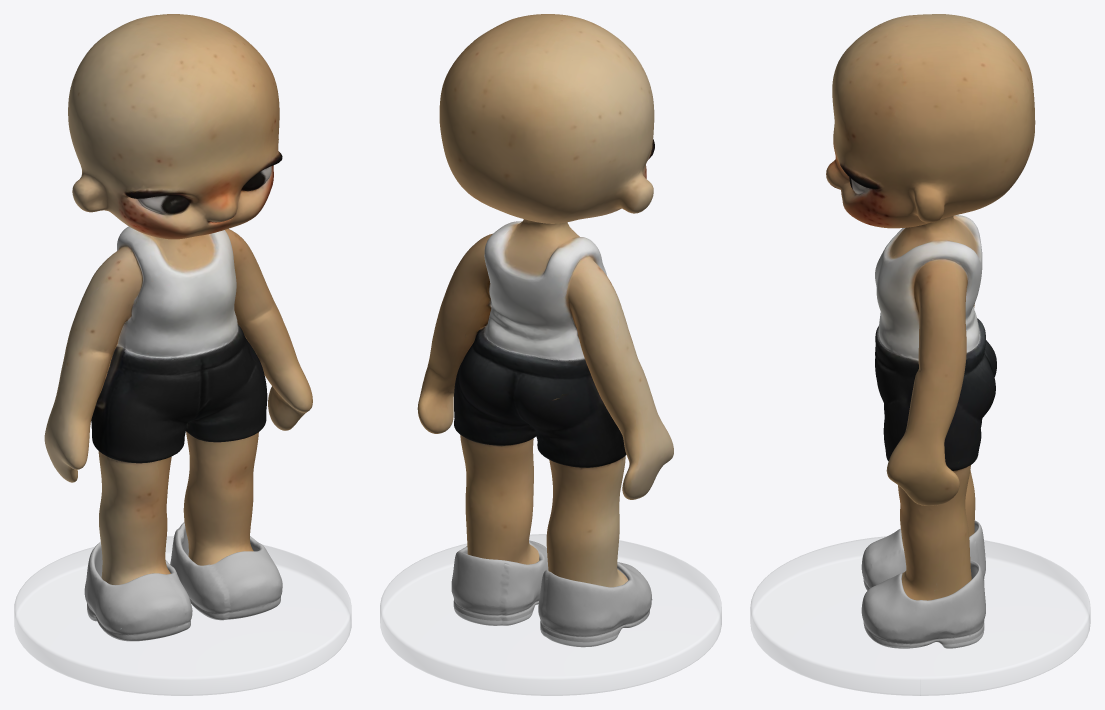
File: Hirono Girl default.glb
3 views of the same model, side by side, from view 1: azimuth 30°, elevation 25°; view 2: azimuth 150°, elevation 25°; view 3: azimuth 270°, elevation 25° (orthographic).
Parts seen in each view (by area): view 1: hirono girl, Acrylic_Stand.002, shoes.003, sando; view 2: hirono girl, Acrylic_Stand.002, shoes.003, sando; view 3: hirono girl, Acrylic_Stand.002, shoes.003, sando.
Boxes of the visible parts, x1,y1,x2,y2 form: hirono girl: [44, 14, 312, 629]; Acrylic_Stand.002: [14, 536, 351, 695]; shoes.003: [84, 522, 282, 641]; sando: [117, 226, 238, 358]; hirono girl: [417, 14, 673, 599]; Acrylic_Stand.002: [380, 534, 721, 695]; shoes.003: [451, 540, 651, 647]; sando: [484, 221, 606, 360]; hirono girl: [826, 14, 1035, 600]; Acrylic_Stand.002: [750, 536, 1090, 695]; shoes.003: [861, 520, 985, 648]; sando: [875, 215, 982, 361].
Bounding box in the file's own units: 0.48 × 0.93 × 0.48.
Materials: 3 (1 with a texture image).
